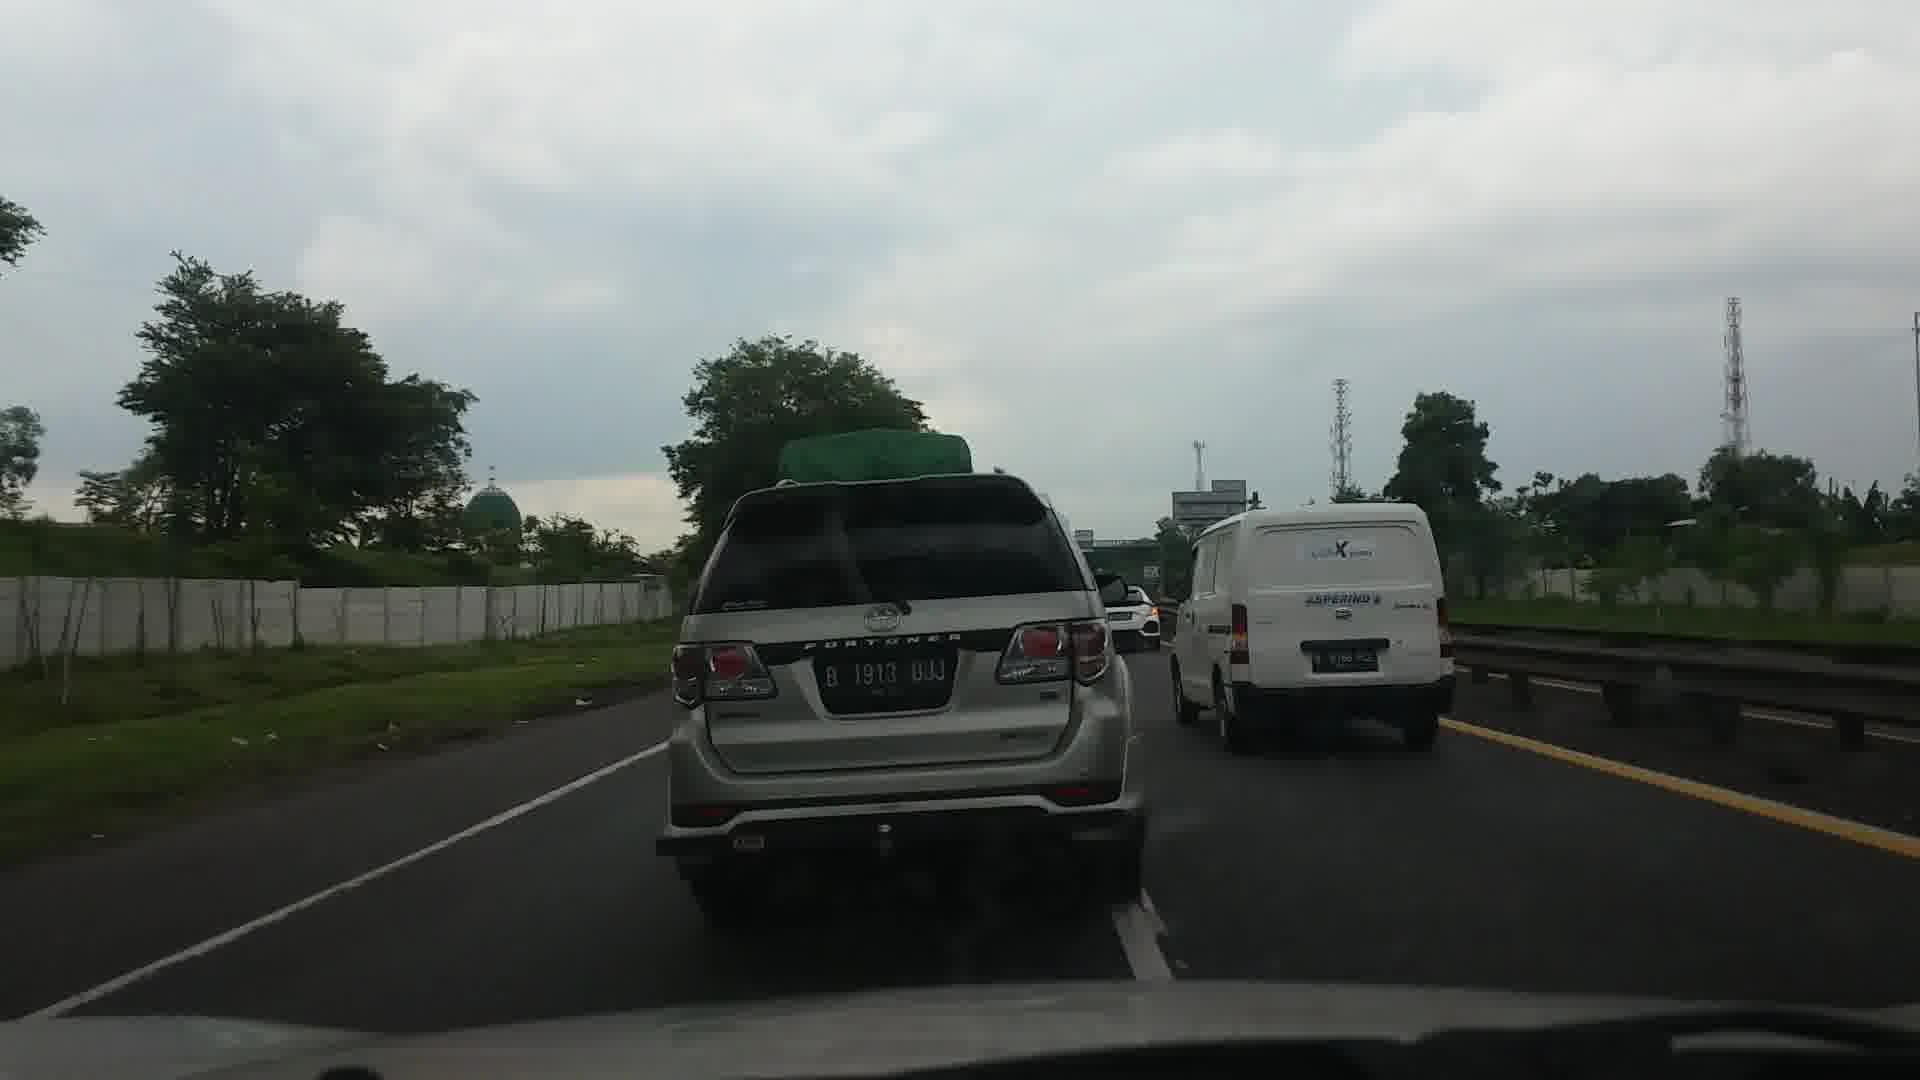plate_positive: (822, 658, 949, 698)
